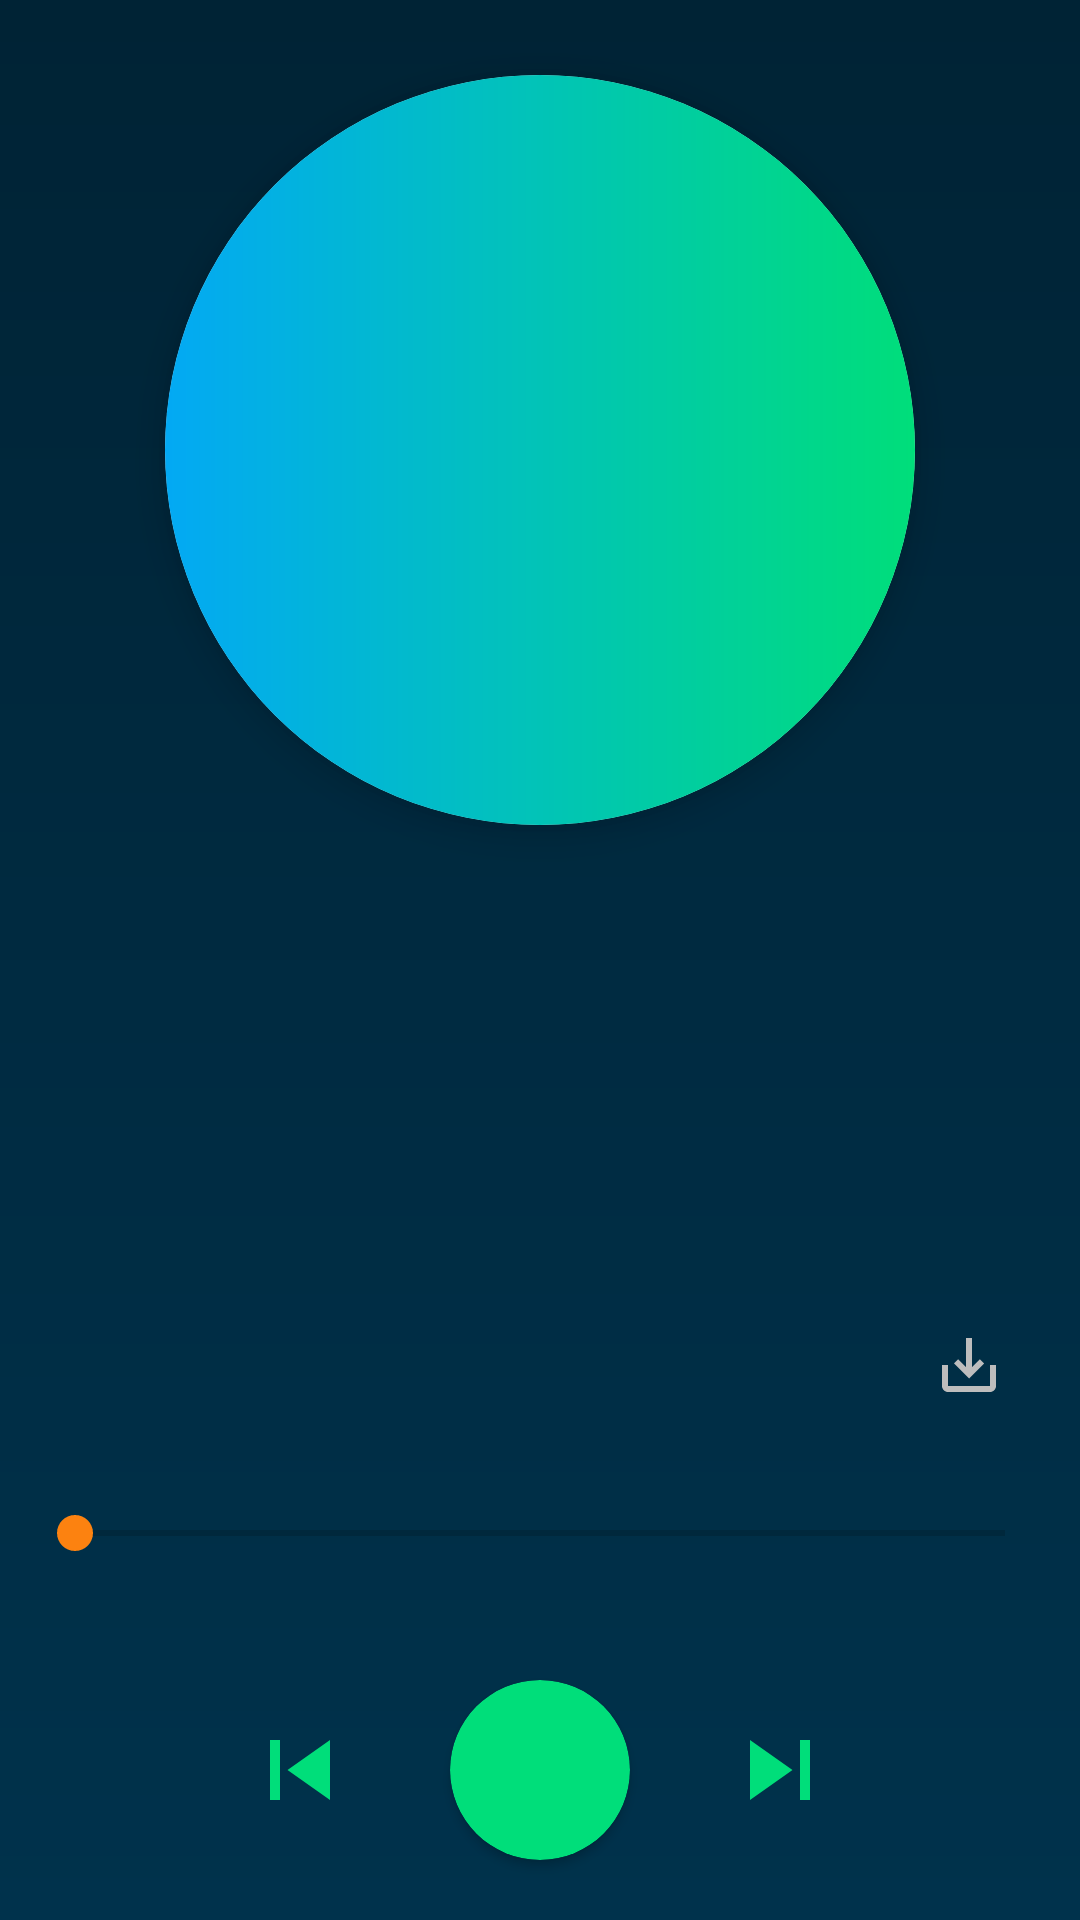

Locate icon controls on the screen. Image size 1080 x 1920, boxes as (x1, y1, x2, y2).
download: (942, 1338, 996, 1392)
next: (750, 1740, 810, 1800)
previous: (270, 1740, 330, 1800)
